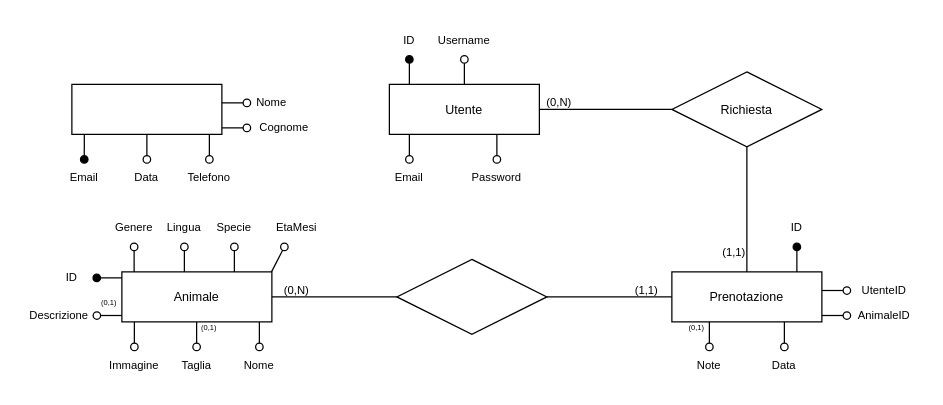
The diagram is 943 pixels wide and 405 high, and some of its shapes have lost their labels. The shapes that lost their labels are listed below. From the top down, each one's box as (x1, y1, x2, y2) in pixels, then its label:
(71, 83, 222, 134): Richiesta_Volontariato
(396, 258, 547, 334): Prenotato
